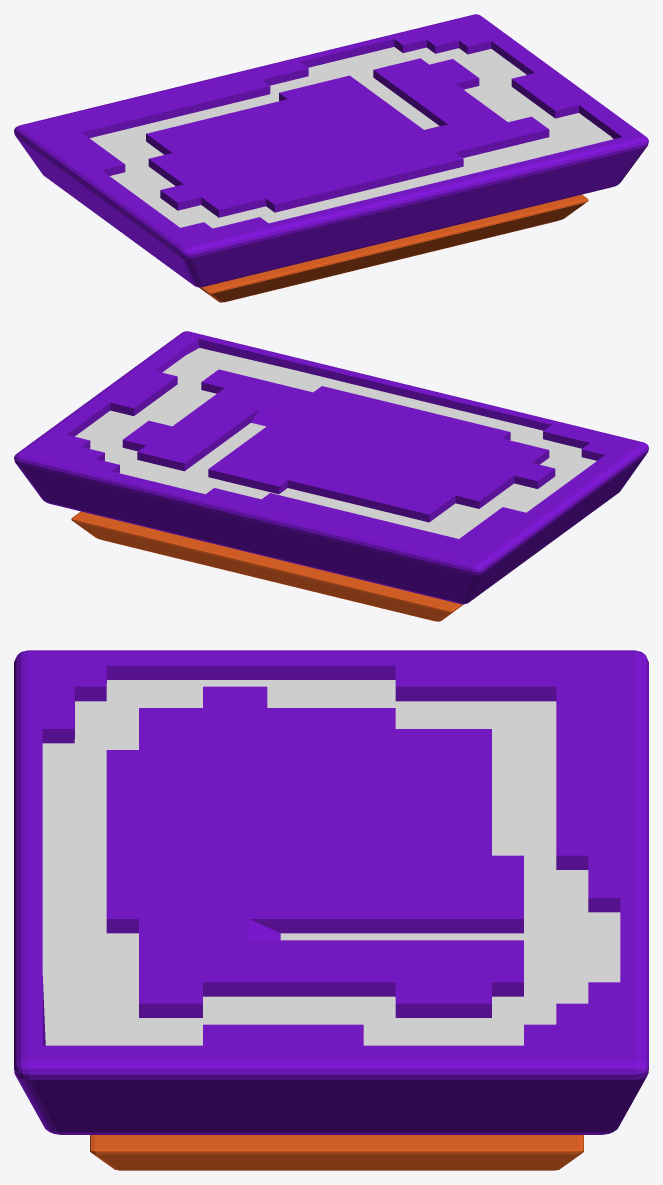
3 views of the same model, one above another, from view 1: azimuth 30°, elevation 25°; view 2: azimuth 150°, elevation 25°; view 3: azimuth 270°, elevation 25° (orthographic). The views are drawn at different scales.
Parts seen in each view (by area): view 1: 空岛, water, 立方体.005; view 2: 空岛, water, 立方体.005; view 3: 空岛, water, 立方体.005.
Boxes of the visible parts, <box> form: 空岛: <box>14,14,648,287</box>; water: <box>90,47,613,228</box>; 立方体.005: <box>199,194,588,302</box>; 空岛: <box>14,331,648,604</box>; water: <box>75,348,596,538</box>; 立方体.005: <box>71,511,463,621</box>; 空岛: <box>14,650,648,1134</box>; water: <box>42,680,620,1045</box>; 立方体.005: <box>90,1135,583,1170</box>.
Size of the model in its own units: 21.67 by 3.98 by 13.9.
